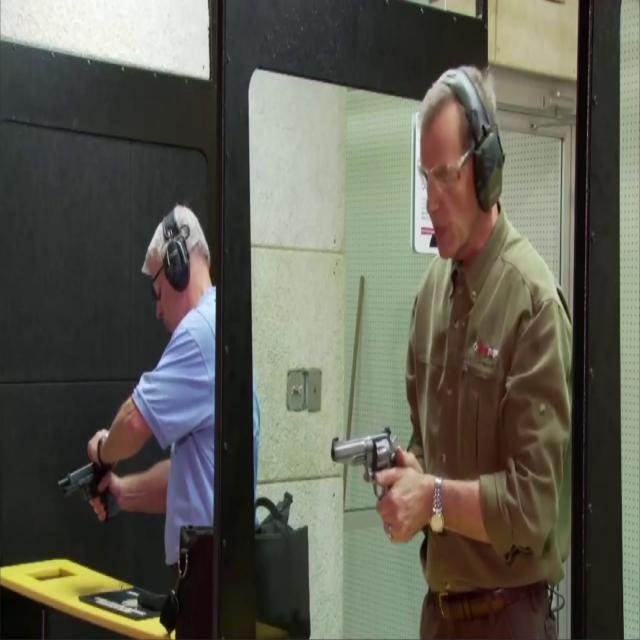weapon: (330, 427, 404, 500), (54, 460, 122, 521)
